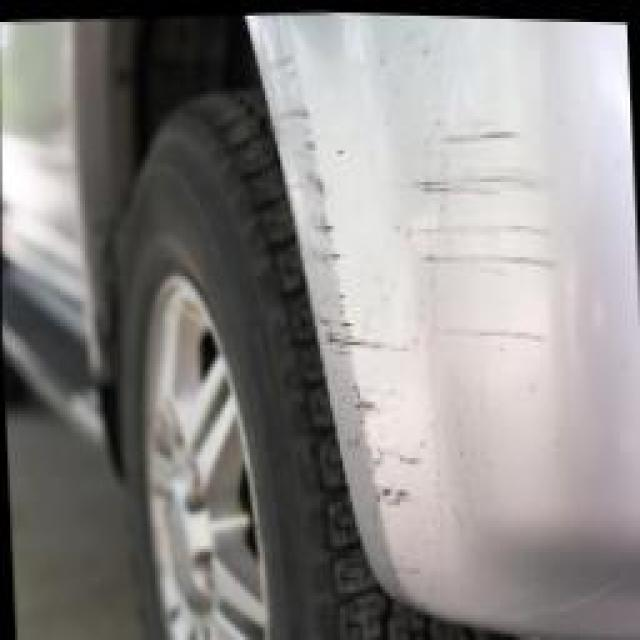Bumper: (282, 31, 612, 565)
